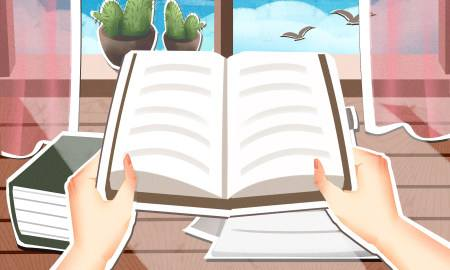book: (61, 43, 401, 263)
